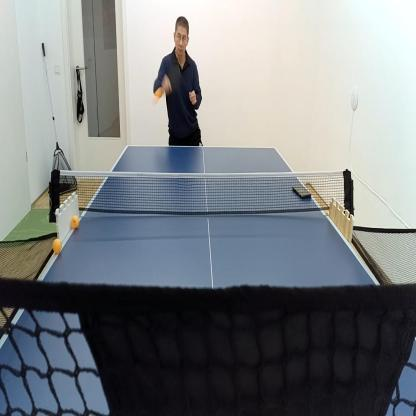Ball: (166, 68, 180, 88), (53, 238, 62, 252), (154, 90, 162, 102), (72, 216, 79, 228)
